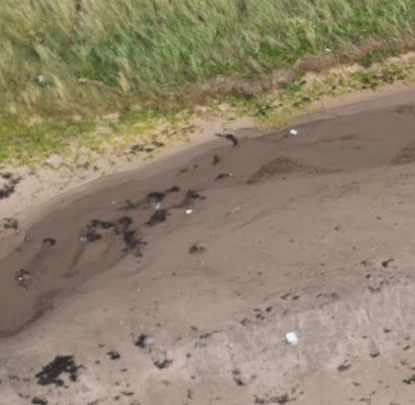white_in_green: (266, 312, 315, 359), (275, 112, 314, 148)
